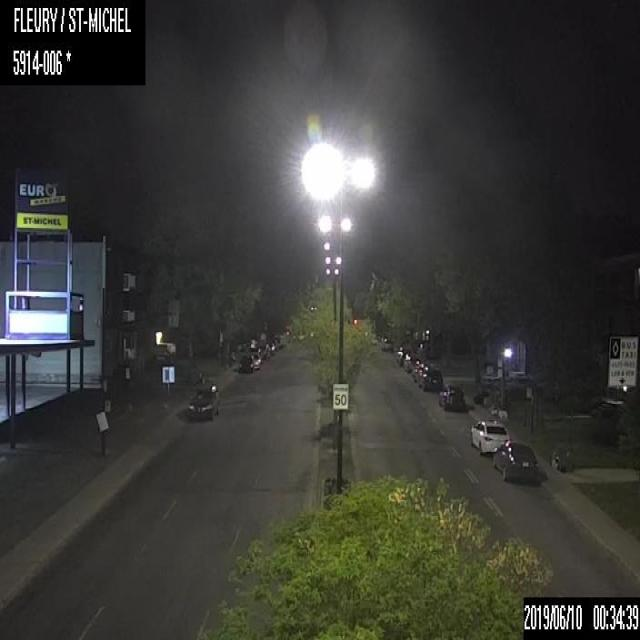vehicle: (494, 440, 539, 483), (470, 418, 509, 454), (186, 381, 218, 419), (437, 384, 465, 409), (418, 365, 442, 392), (238, 353, 253, 371), (255, 342, 270, 359), (252, 352, 260, 369), (382, 337, 392, 350)
